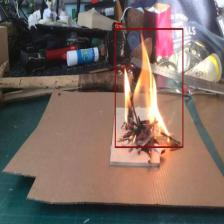fire: (115, 28, 183, 147)
